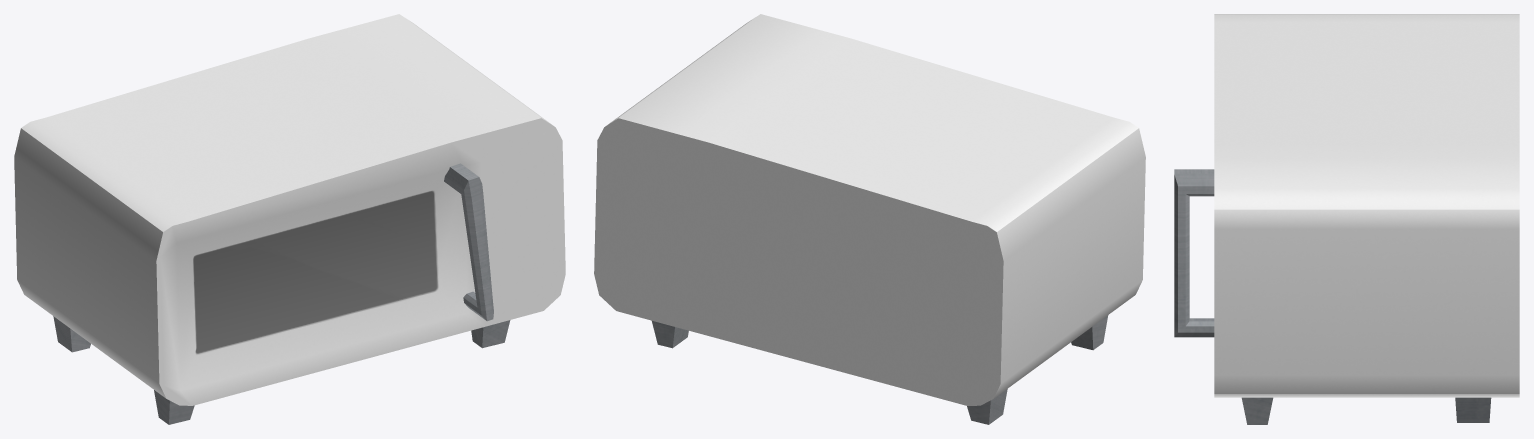
File: Microwave.fbx
3 renders of one model, left to right at view 1: azimuth 30°, elevation 25°; view 2: azimuth 150°, elevation 25°; view 3: azimuth 270°, elevation 25°, orthographic. The views are drawn at different scales.
Visible parts, largest first — view 1: Microwave1:Microwave; view 2: Microwave1:Microwave; view 3: Microwave1:Microwave.
Part boxes in pixels (x1,y1,x2,y2): Microwave1:Microwave: [14, 14, 565, 424]; Microwave1:Microwave: [594, 14, 1145, 424]; Microwave1:Microwave: [1174, 14, 1519, 424].
Bounding box in the file's own units: 3.32 × 1.79 × 2.26.
